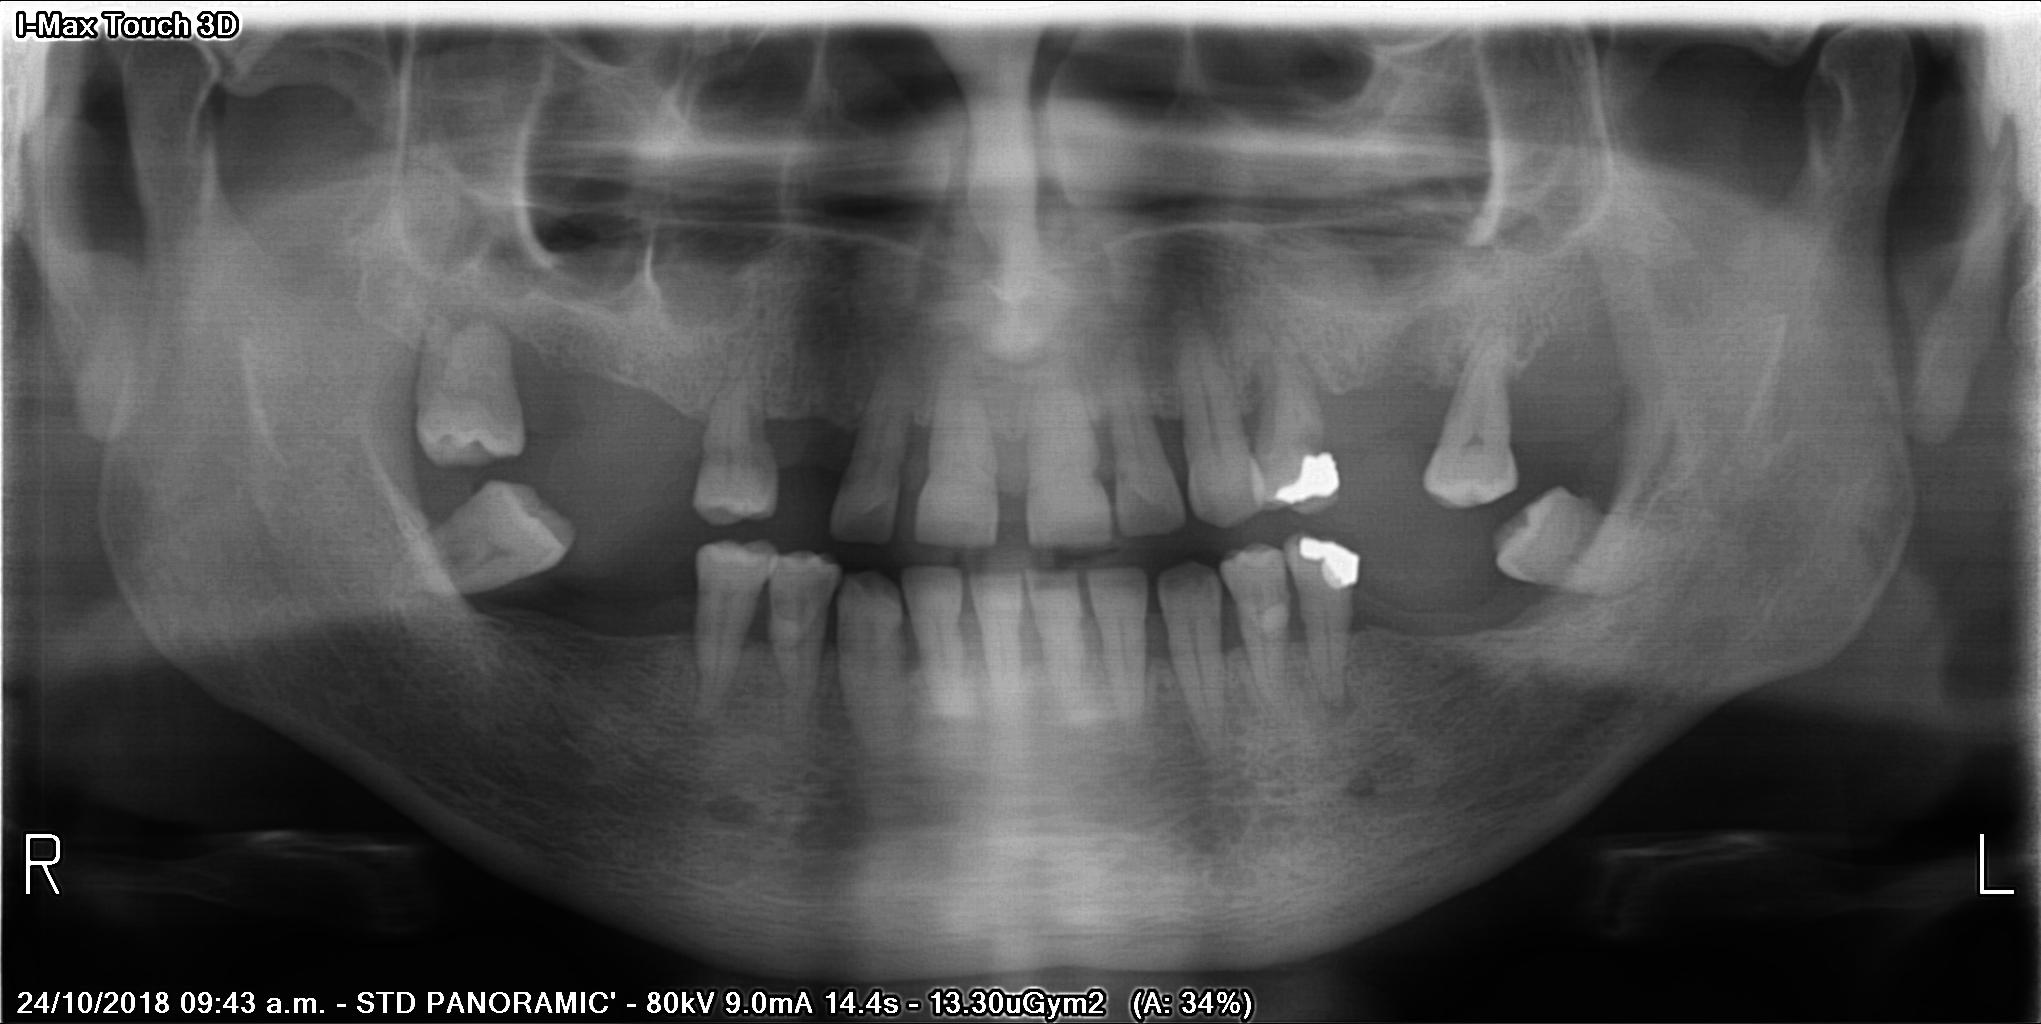Çürük: (1267, 455, 1342, 509), (1295, 533, 1366, 590)
Çürük Bölgesi: (1298, 426, 1348, 468)
